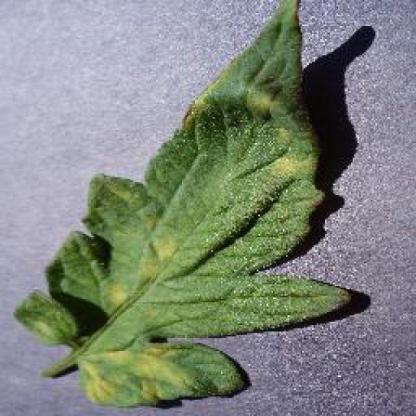Tomato_Leaf_Mold: (11, 0, 351, 405)
